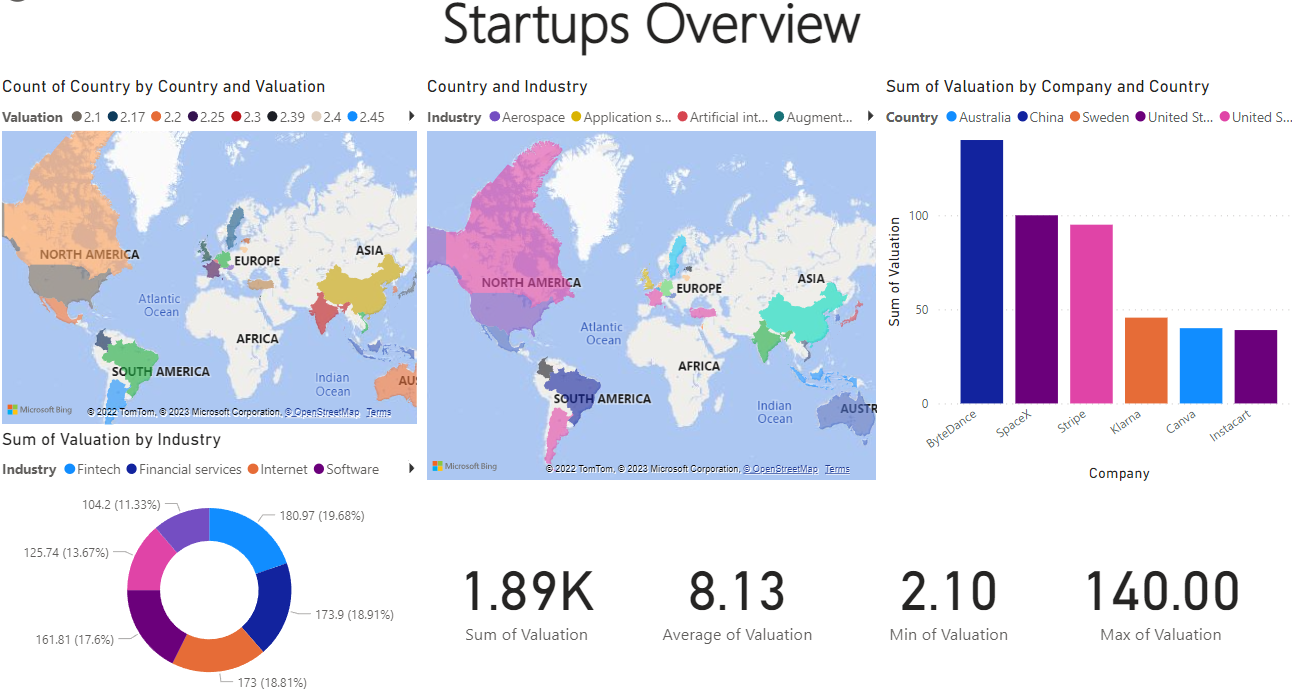

Layout of this report page (visuals, bound fields, positions):
{"tool":"powerbi","page":{"name":"Startups Overview","canvas":[1280,720],"ordinal":0},"visuals":[{"type":"filledMap","fields":{"Category":["cleaned_startups.Country"],"Series":["cleaned_startups.Valuation"]},"box":[0,107,415.8,345.8],"z":0},{"type":"textbox","box":[415.8,12.3,448.7,85.1],"z":1},{"type":"columnChart","fields":{"Category":["cleaned_startups.Company"],"Y":["Sum(cleaned_startups.Valuation)"],"Series":["cleaned_startups.Country"]},"box":[864.2,107.6,415.6,401],"z":2},{"type":"filledMap","fields":{"Category":["cleaned_startups.Country"],"Series":["cleaned_startups.Industry"]},"box":[415.6,107.6,448.6,401],"z":3},{"type":"donutChart","fields":{"Category":["cleaned_startups.Industry"],"Y":["Sum(cleaned_startups.Valuation)"]},"box":[0,452.8,415.8,267.6],"z":4},{"type":"actionButton","box":[0,0,100,40],"z":6},{"type":"card","fields":{"Values":["Sum(cleaned_startups.Valuation)"]},"box":[415.6,508.5,205.4,211.5],"z":7},{"type":"card","fields":{"Values":["Avg(cleaned_startups.Valuation)"]},"box":[621,508.5,206.6,211.5],"z":8},{"type":"card","fields":{"Values":["Min(cleaned_startups.Valuation)"]},"box":[827.6,508.5,206.6,211.5],"z":9},{"type":"card","fields":{"Values":["Max(cleaned_startups.Valuation)"]},"box":[1034.2,508.5,207.8,211.5],"z":10}]}

Visuals, with their boxes on the page's 1280x720 design canvas (x1, y1, x2, y2). These are canvas units, not pixel positions in the 1292x693 screenshot, which may show the page scaled, cropped or inside an application window:
filledMap - cleaned_startups.Country x cleaned_startups.Valuation: x1=0, y1=107, x2=416, y2=453
textbox: x1=416, y1=12, x2=864, y2=97
columnChart - cleaned_startups.Company x Sum(cleaned_startups.Valuation): x1=864, y1=108, x2=1280, y2=509
filledMap - cleaned_startups.Country x cleaned_startups.Industry: x1=416, y1=108, x2=864, y2=509
donutChart - cleaned_startups.Industry x Sum(cleaned_startups.Valuation): x1=0, y1=453, x2=416, y2=720
actionButton: x1=0, y1=0, x2=100, y2=40
card - Sum(cleaned_startups.Valuation): x1=416, y1=508, x2=621, y2=720
card - Avg(cleaned_startups.Valuation): x1=621, y1=508, x2=828, y2=720
card - Min(cleaned_startups.Valuation): x1=828, y1=508, x2=1034, y2=720
card - Max(cleaned_startups.Valuation): x1=1034, y1=508, x2=1242, y2=720
